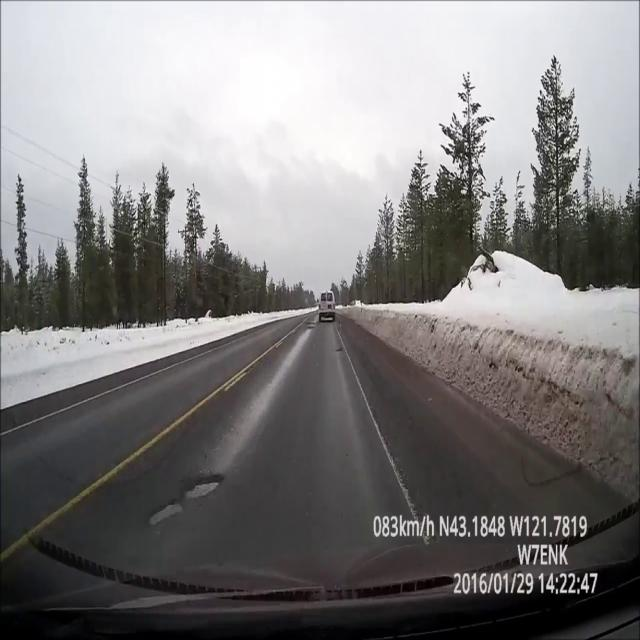Pothole: (181, 474, 225, 504), (148, 498, 185, 526), (336, 347, 343, 353), (306, 322, 316, 325), (308, 326, 316, 329)
